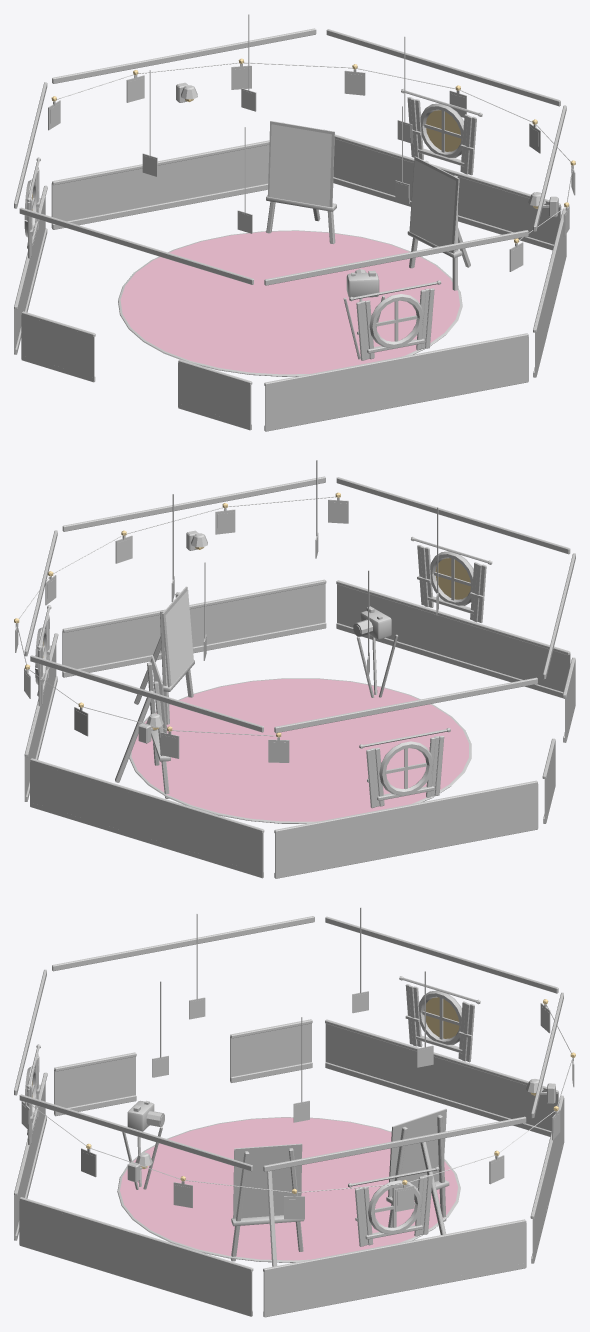
The model's file is zon_room_photos.glb.
3 renders of one model, top to bottom at view 1: azimuth 30°, elevation 25°; view 2: azimuth 150°, elevation 25°; view 3: azimuth 270°, elevation 25°, orthographic.
Parts seen in each view (by area): view 1: SM_zon_room_photos_kit_interior_x0_zm1, SM_zon_room_photos_room_rug_x0_zm1, SCREEN_fur_easel_photos_pin__0, SCREEN_fur_easel_photos_pin__1, SM_zon_room_photos_glow_vc_x0_zm1; view 2: SM_zon_room_photos_kit_interior_x0_zm1, SM_zon_room_photos_room_rug_x0_zm1, SCREEN_fur_easel_photos_pin__1, SM_zon_room_photos_glow_vc_x0_zm1; view 3: SM_zon_room_photos_kit_interior_x0_zm1, SM_zon_room_photos_room_rug_x0_zm1, SM_zon_room_photos_glow_vc_x0_zm1.
Part boxes in pixels (x1,y1,x2,y2): SM_zon_room_photos_kit_interior_x0_zm1: (14,14,575,431); SM_zon_room_photos_room_rug_x0_zm1: (120,231,459,374); SCREEN_fur_easel_photos_pin__0: (269,124,331,206); SCREEN_fur_easel_photos_pin__1: (410,160,455,252); SM_zon_room_photos_glow_vc_x0_zm1: (32,58,575,243); SM_zon_room_photos_kit_interior_x0_zm1: (15,460,575,878); SM_zon_room_photos_room_rug_x0_zm1: (131,679,468,821); SCREEN_fur_easel_photos_pin__1: (165,590,193,685); SM_zon_room_photos_glow_vc_x0_zm1: (14,492,470,737); SM_zon_room_photos_kit_interior_x0_zm1: (14,907,574,1317); SM_zon_room_photos_room_rug_x0_zm1: (120,1117,457,1260); SM_zon_room_photos_glow_vc_x0_zm1: (32,997,575,1193).
Bounding box in the file's own units: 11.49 × 5.03 × 10.86.
